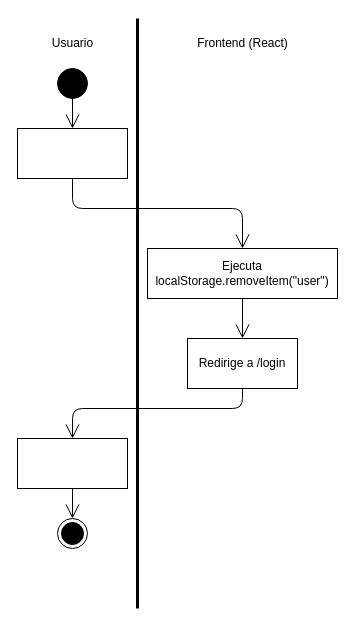
The diagram is 355 pixels wide and 628 high, and some of its shapes have lost their labels. Here are the shapes that lost their labels. From the top down, the centre of each, then its label:
point (72, 153): Pulsa el icono de "Cerrar Sesión"
point (72, 463): Ve la pantalla de inicio de sesión
